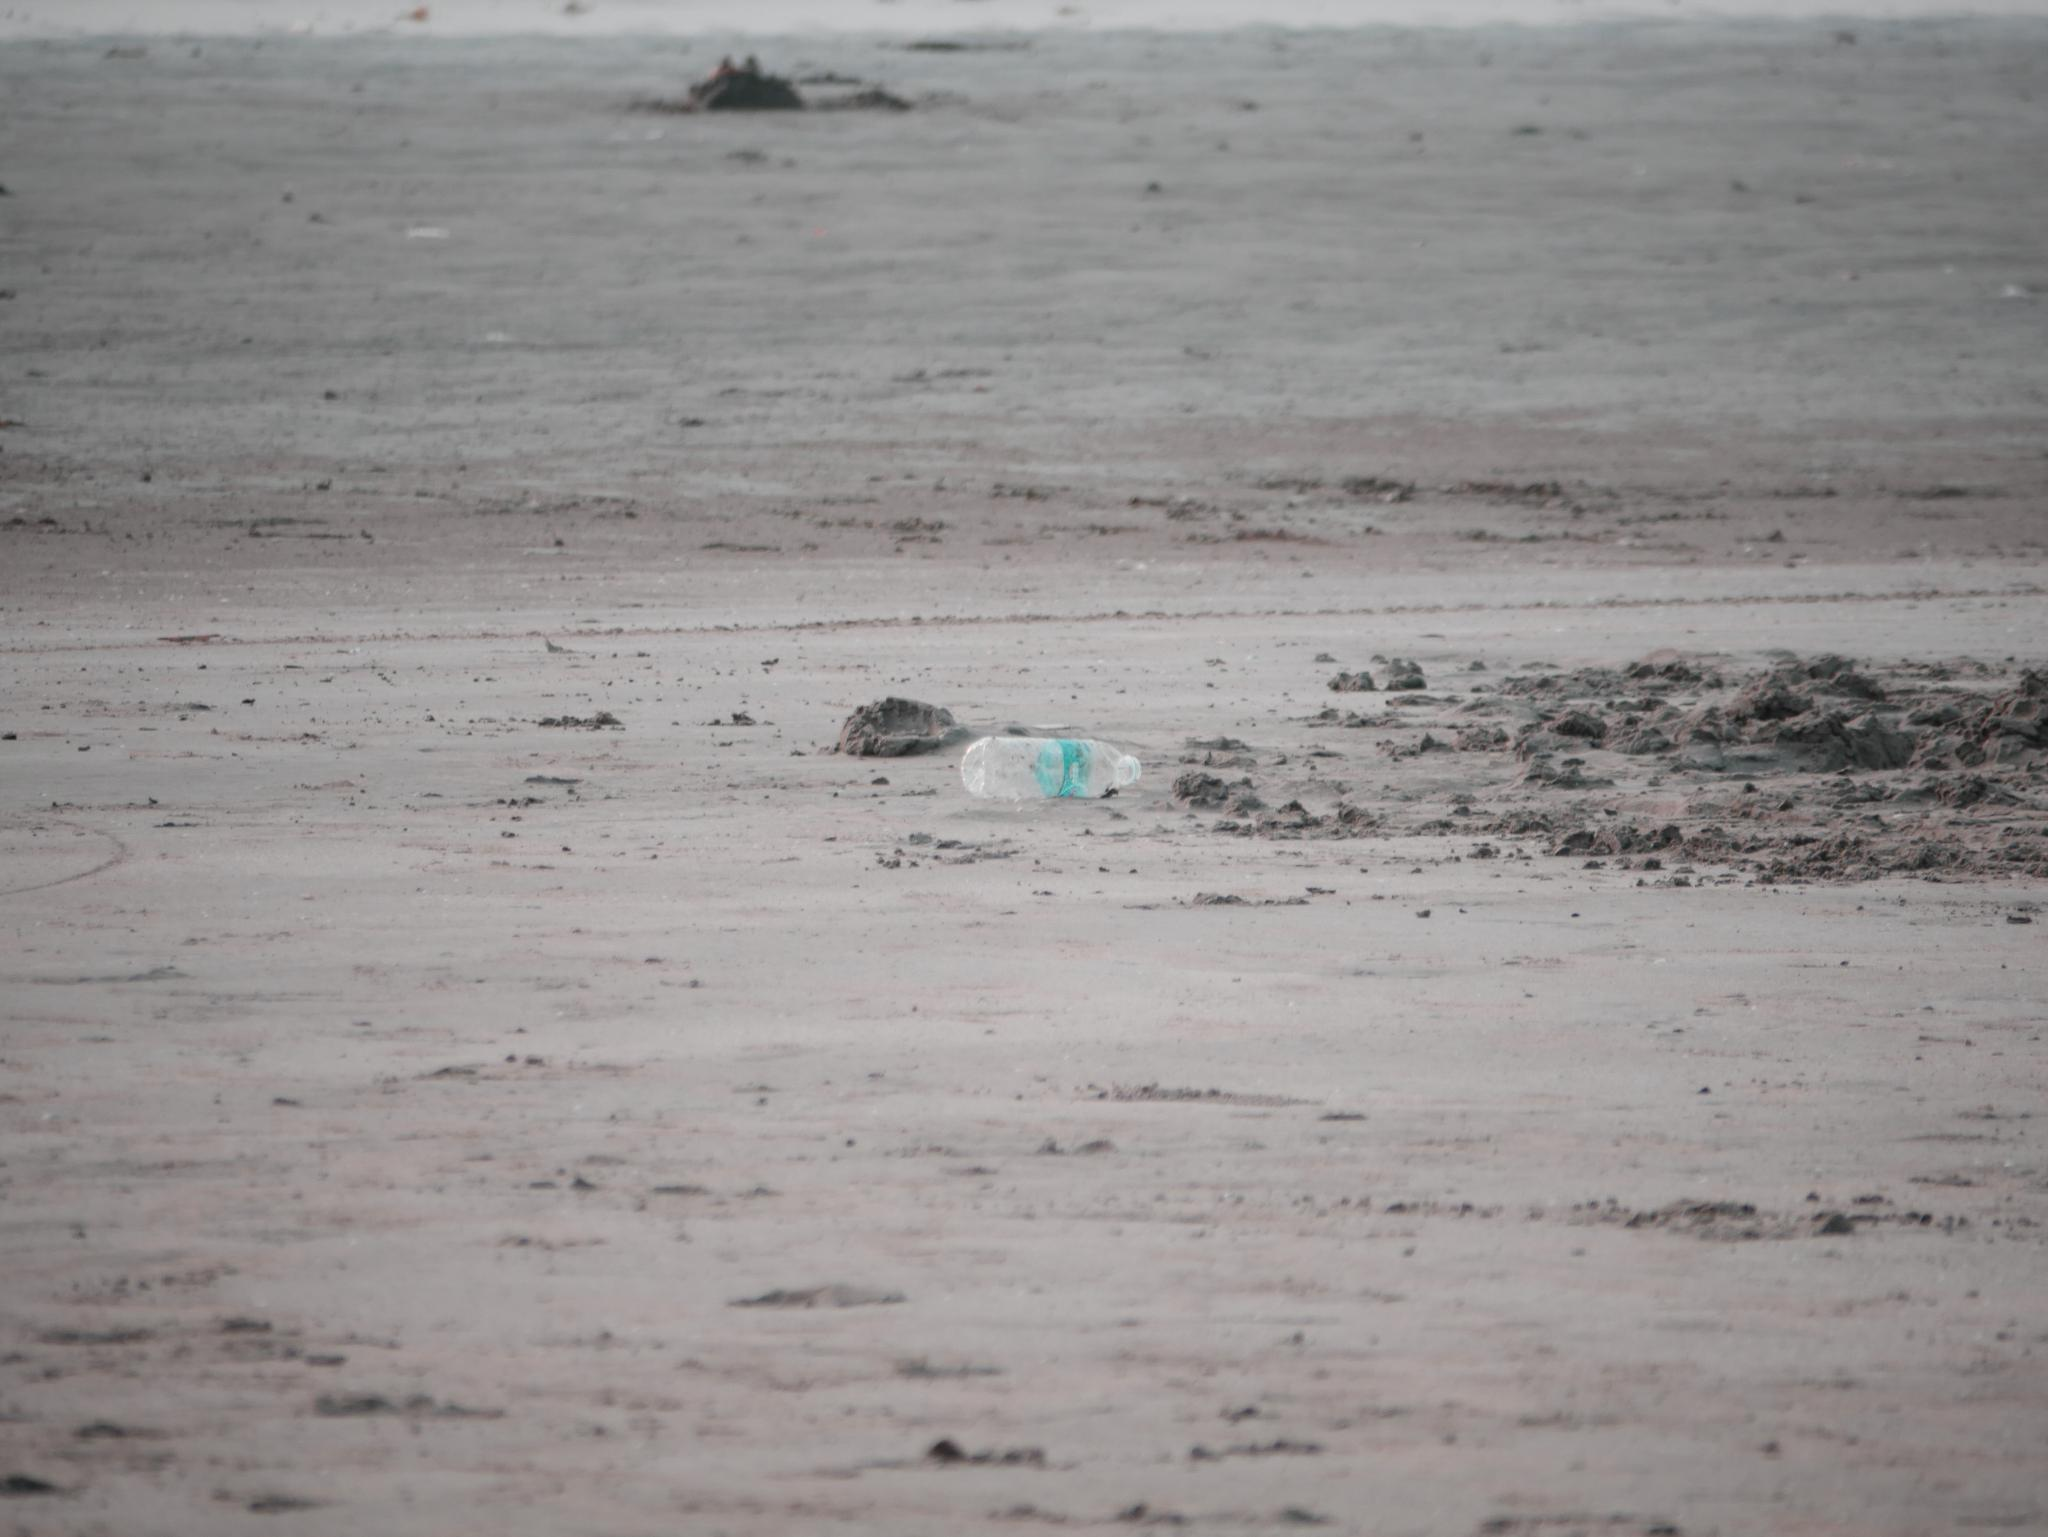Plastic: (934, 701, 1168, 839)
